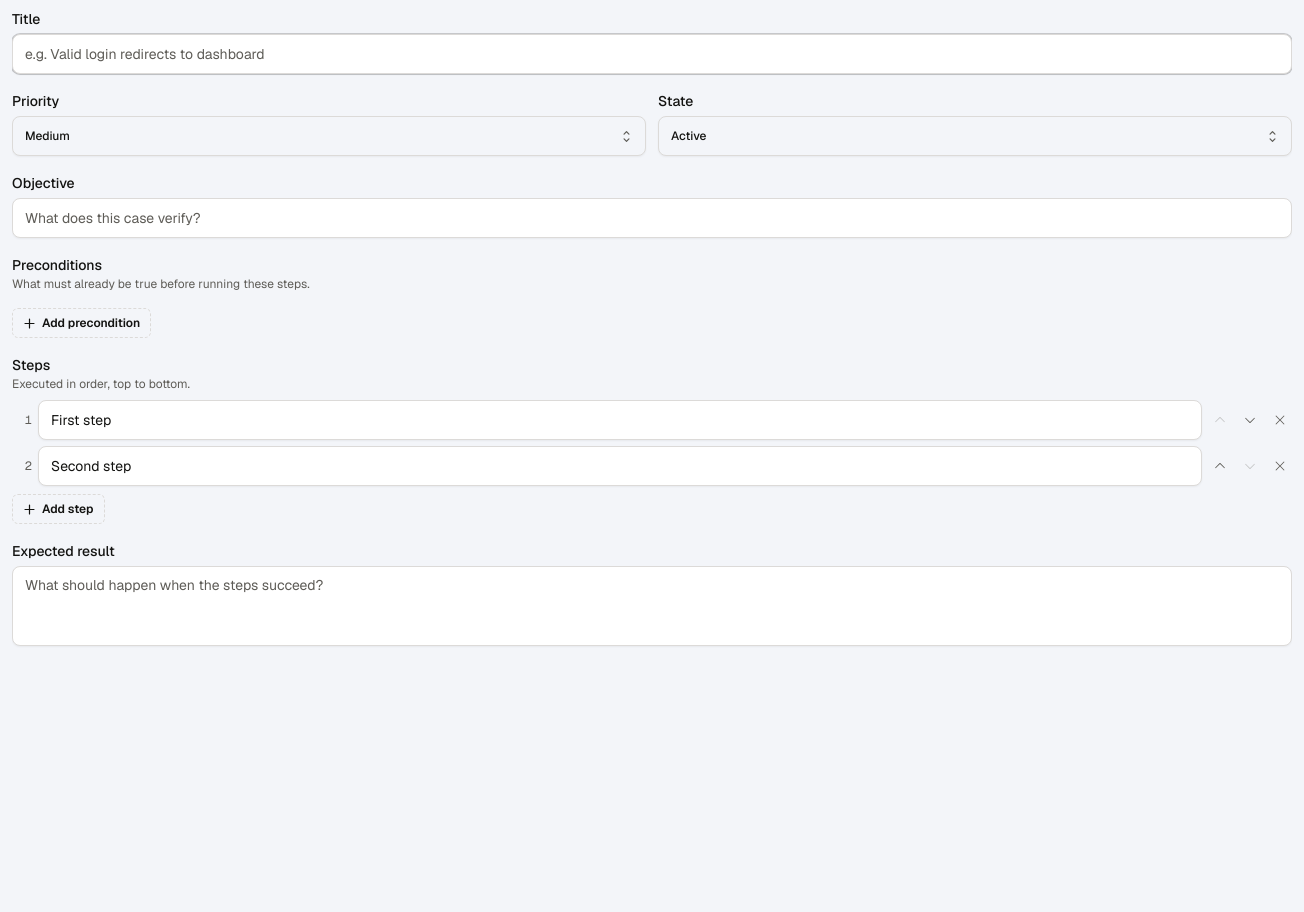
Test: CaseFields › reorders steps when moving one down
What coordinates should you click on to do the following:
click the 1st button named "Move down"
I would click on:
 (1250, 420)
Its box is [1238,408,1262,432].
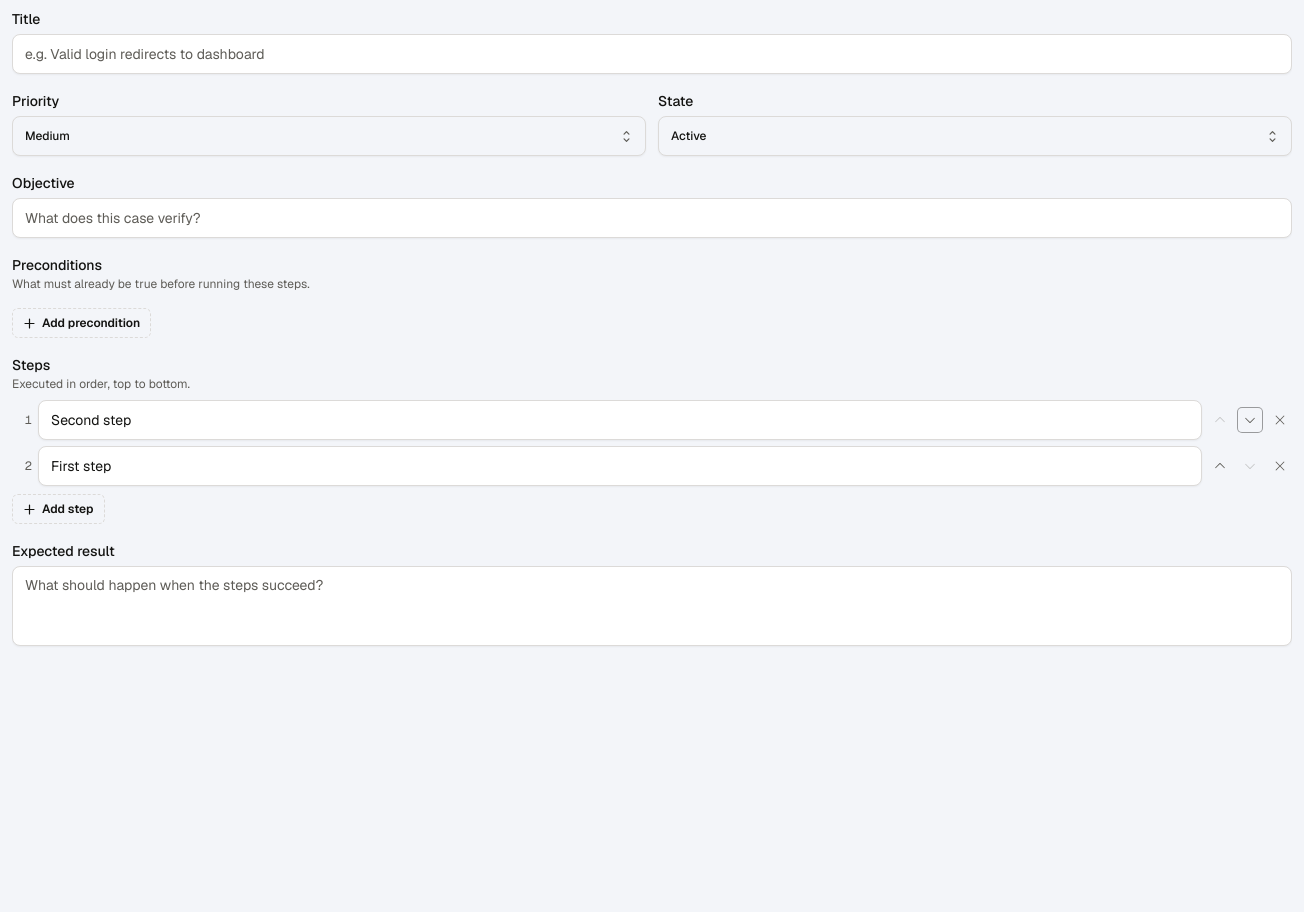
Check: the field named "Step 1" holds "Second step", box [38,400,1202,440]
Check: the field named "Step 2" holds "First step", box [38,446,1202,486]
